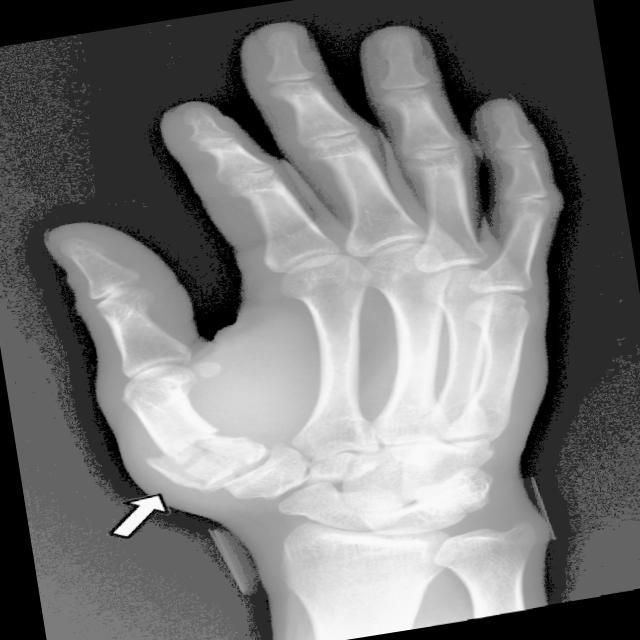Comminuted Fracture: (141, 452, 199, 492)
